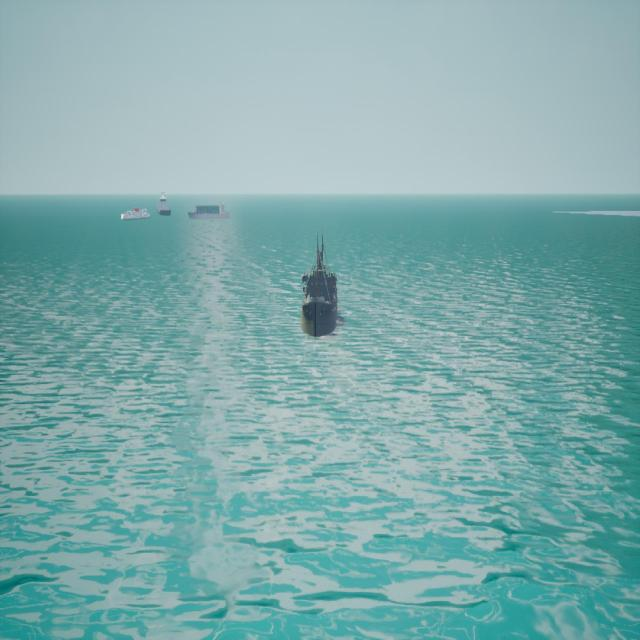fishing ship: (301, 228, 341, 341), (189, 204, 231, 223), (121, 207, 152, 222), (160, 193, 173, 218)
